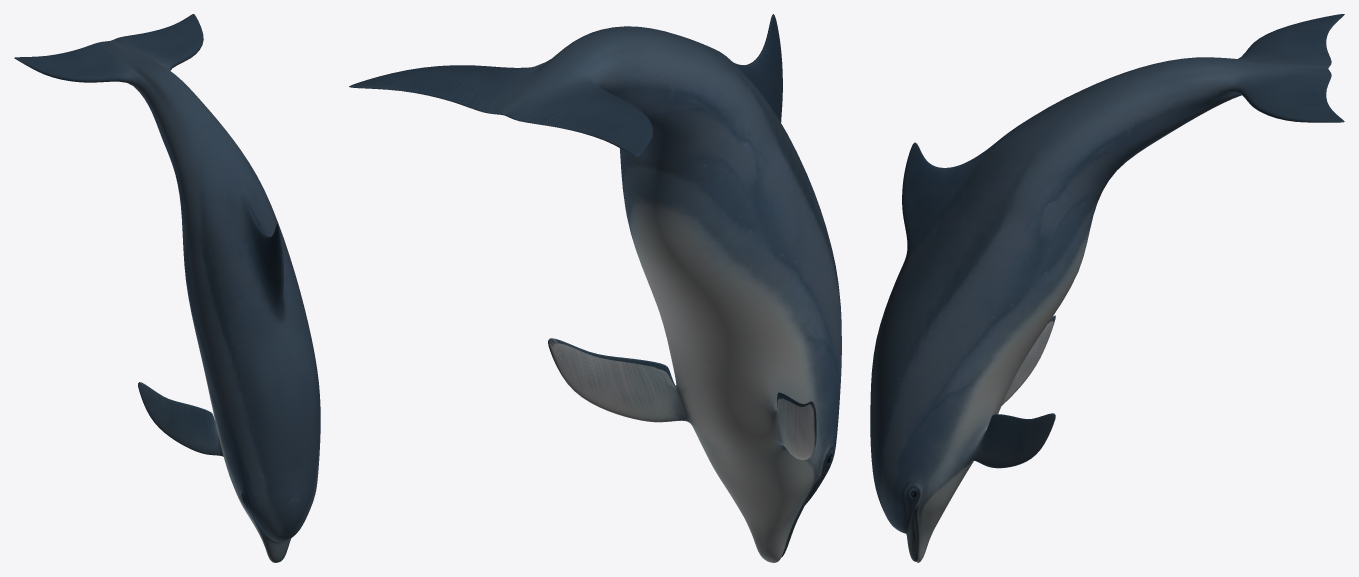
The model's file is dolphin.obj.
3 renders of one model, left to right at view 1: azimuth 30°, elevation 25°; view 2: azimuth 150°, elevation 25°; view 3: azimuth 270°, elevation 25°, orthographic. The views are drawn at different scales.
Parts seen in each view (by area): view 1: dolphin; view 2: dolphin; view 3: dolphin.
Boxes of the visible parts, x1,y1,x2,y2 form: dolphin: (14, 14, 320, 562); dolphin: (349, 14, 841, 562); dolphin: (870, 14, 1344, 562).
Bounding box in the file's own units: 82.25 × 178 × 152.
